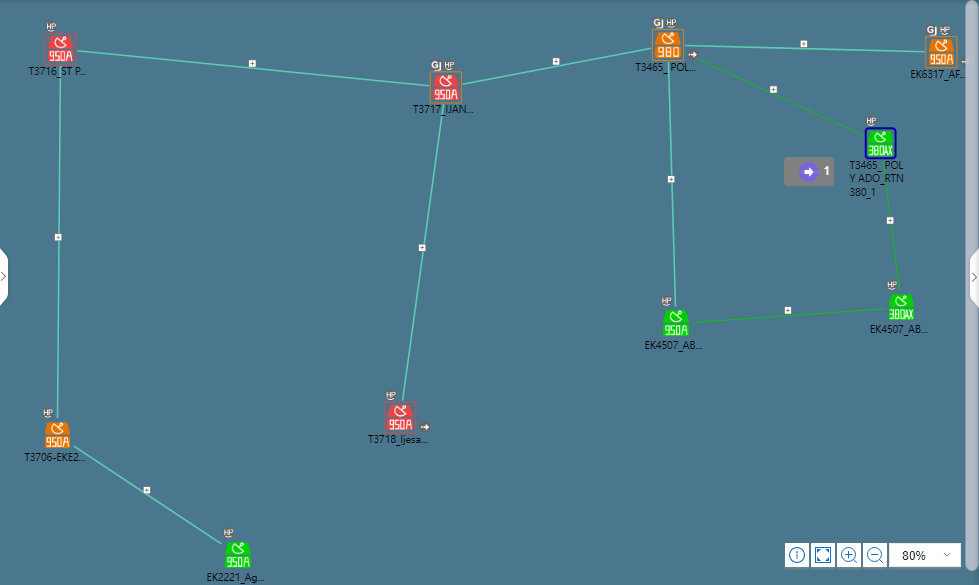Link_Blue: (401, 106, 448, 389), (76, 450, 219, 543), (664, 63, 681, 306), (760, 45, 922, 52)
Link_Green: (688, 51, 863, 141), (694, 308, 860, 323), (884, 190, 898, 294)
Link_Red: (110, 51, 427, 92), (462, 45, 649, 83)
RTN_Green: (223, 540, 252, 568), (866, 130, 893, 159), (664, 308, 693, 335), (890, 296, 912, 325)
RTN_Orange: (652, 32, 687, 62), (46, 424, 75, 453), (927, 39, 955, 68)
RTN_Red: (382, 406, 418, 435), (46, 32, 73, 68), (431, 75, 459, 104)
